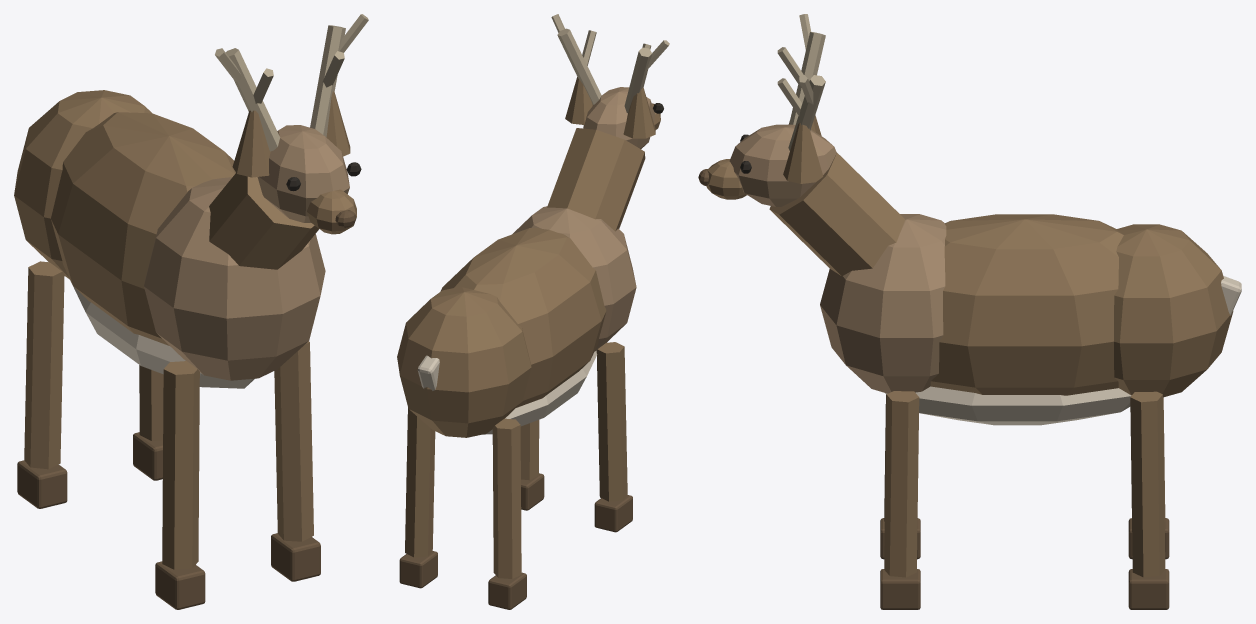
File: rv_deer.gltf
The picture shows the model from 3 angles, left to right: view 1: azimuth 30°, elevation 25°; view 2: azimuth 150°, elevation 25°; view 3: azimuth 270°, elevation 25°; orthographic projection. The views are drawn at different scales.
Parts seen in each view (by area): view 1: RV_Deer; view 2: RV_Deer; view 3: RV_Deer.
Part boxes in pixels (left/top/right/bottom): RV_Deer: left=14, top=14, right=368, bottom=609; RV_Deer: left=397, top=14, right=669, bottom=609; RV_Deer: left=698, top=14, right=1241, bottom=609.
Size of the model in its own units: 0.447 by 1.6 by 1.47.
